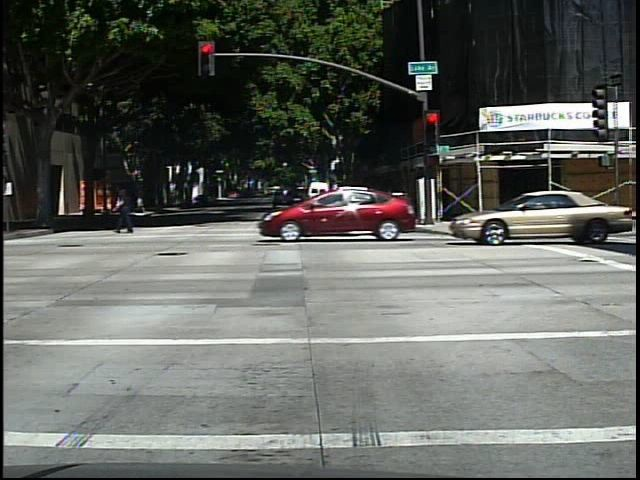person: (110, 184, 142, 236)
